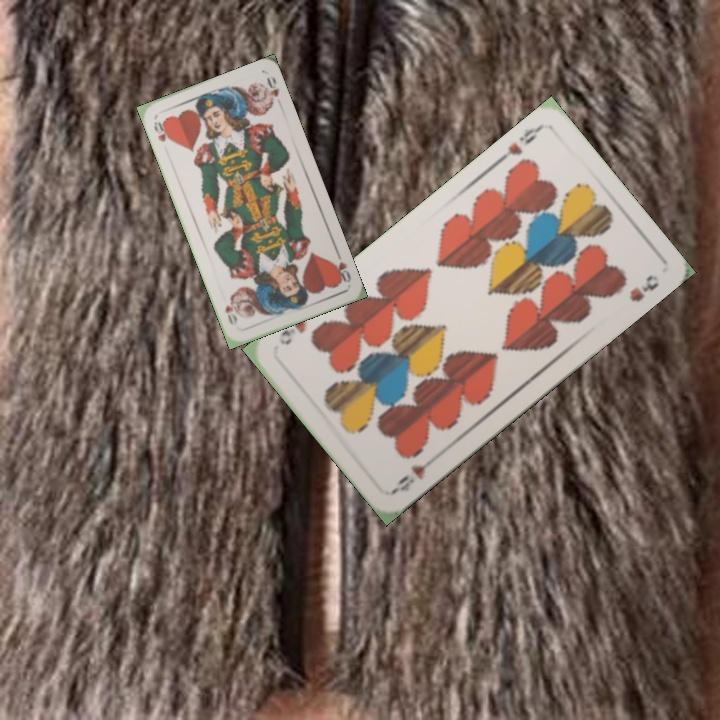H9: (494, 122, 544, 166), (390, 452, 440, 495)
HO: (329, 247, 354, 286), (150, 117, 174, 145)
